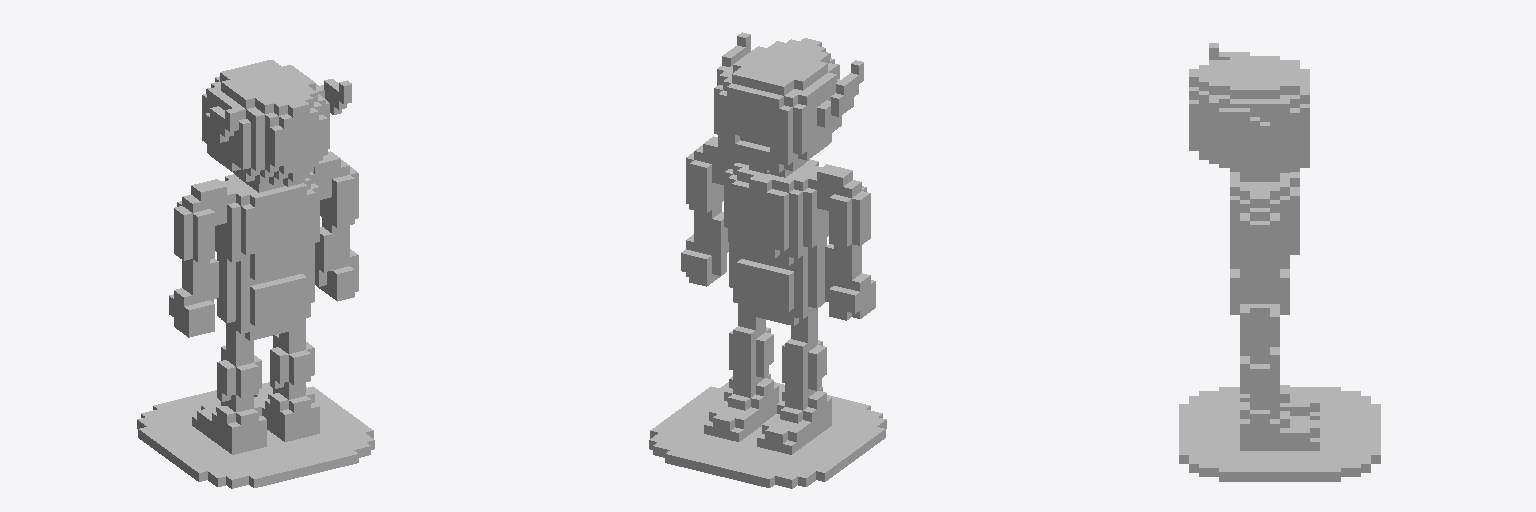
Rendered from goblin.obj.
3 views of the same model, side by side, from view 1: azimuth 30°, elevation 25°; view 2: azimuth 150°, elevation 25°; view 3: azimuth 270°, elevation 25° (orthographic).
Visible parts, largest first — view 1: goblin; view 2: goblin; view 3: goblin.
Part boxes in pixels (x1,y1,x2,y2): goblin: (137, 60, 374, 488); goblin: (649, 32, 886, 488); goblin: (1179, 43, 1380, 481).
Size of the model in its own units: 20 by 40 by 20.